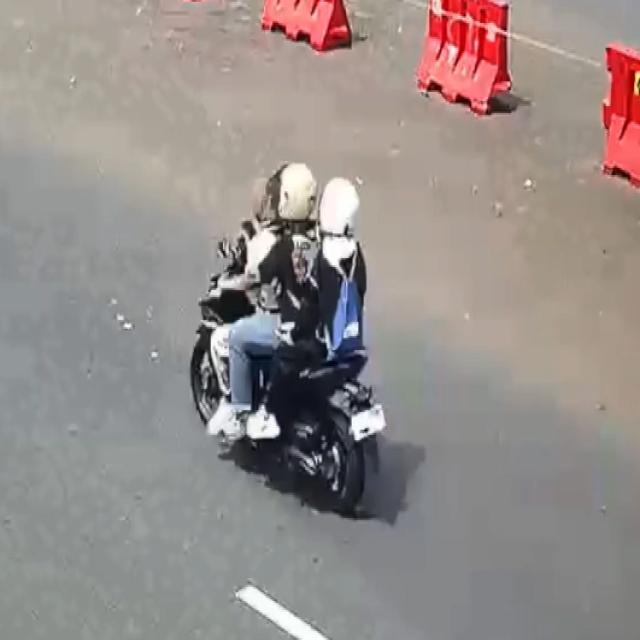helm: (266, 154, 322, 249), (311, 169, 369, 248)
motor: (184, 145, 391, 536)
spion: (210, 231, 247, 273)
